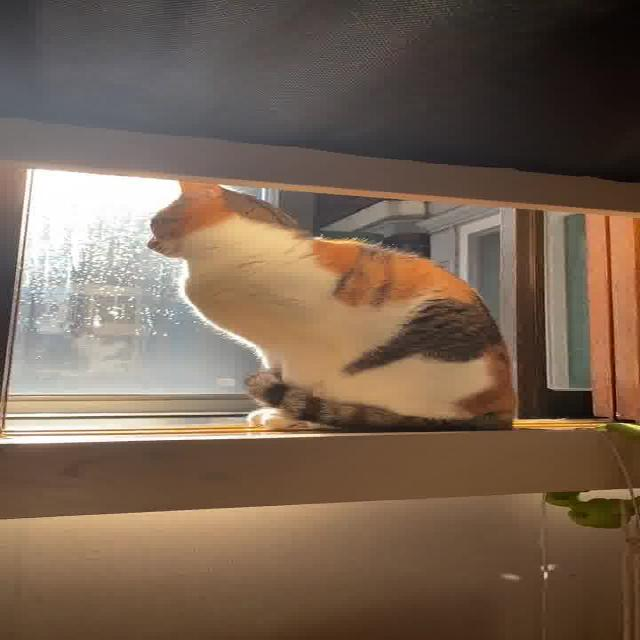cat: (98, 162, 545, 444)
